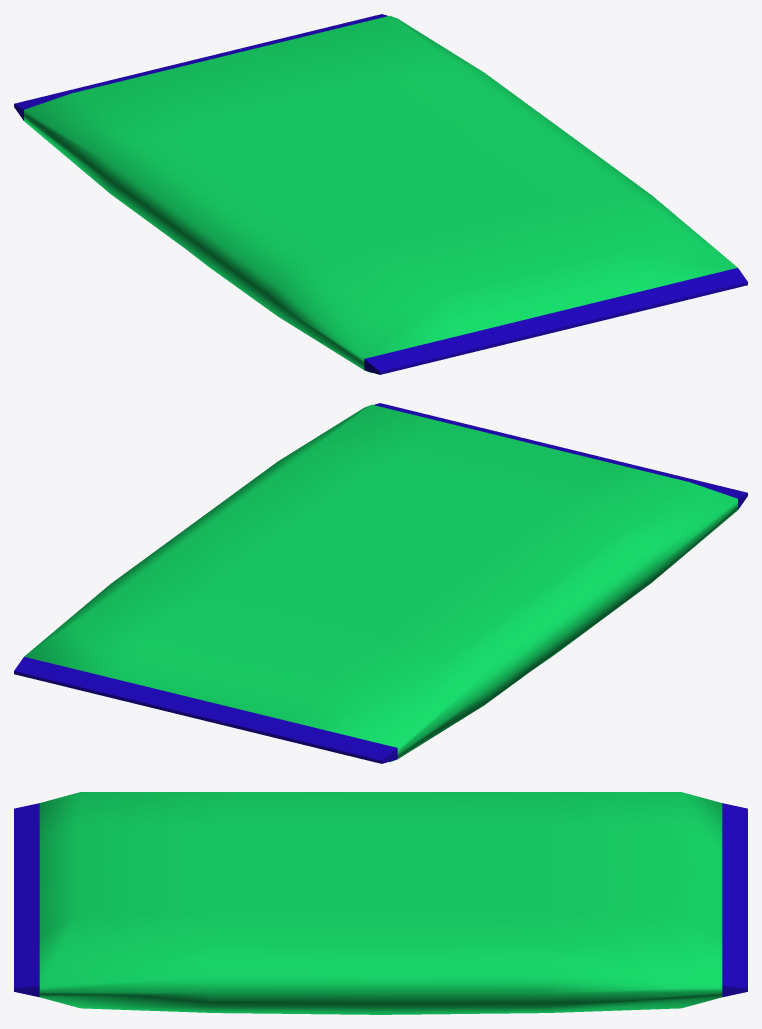
File: Fishcake.fbx
The picture shows the model from 3 angles, top to bottom: view 1: azimuth 30°, elevation 25°; view 2: azimuth 150°, elevation 25°; view 3: azimuth 270°, elevation 25°; orthographic projection.
Visible parts, largest first — view 1: Fishcake_wrapped; view 2: Fishcake_wrapped; view 3: Fishcake_wrapped.
Boxes of the visible parts, left/top/right/bottom form: Fishcake_wrapped: left=14, top=14, right=747, bottom=374; Fishcake_wrapped: left=14, top=403, right=747, bottom=763; Fishcake_wrapped: left=14, top=792, right=747, bottom=1014.
Size of the model in its own units: 19.5 by 2.96 by 32.42.
